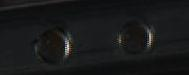joints: (32, 23, 73, 65), (114, 16, 156, 54)
